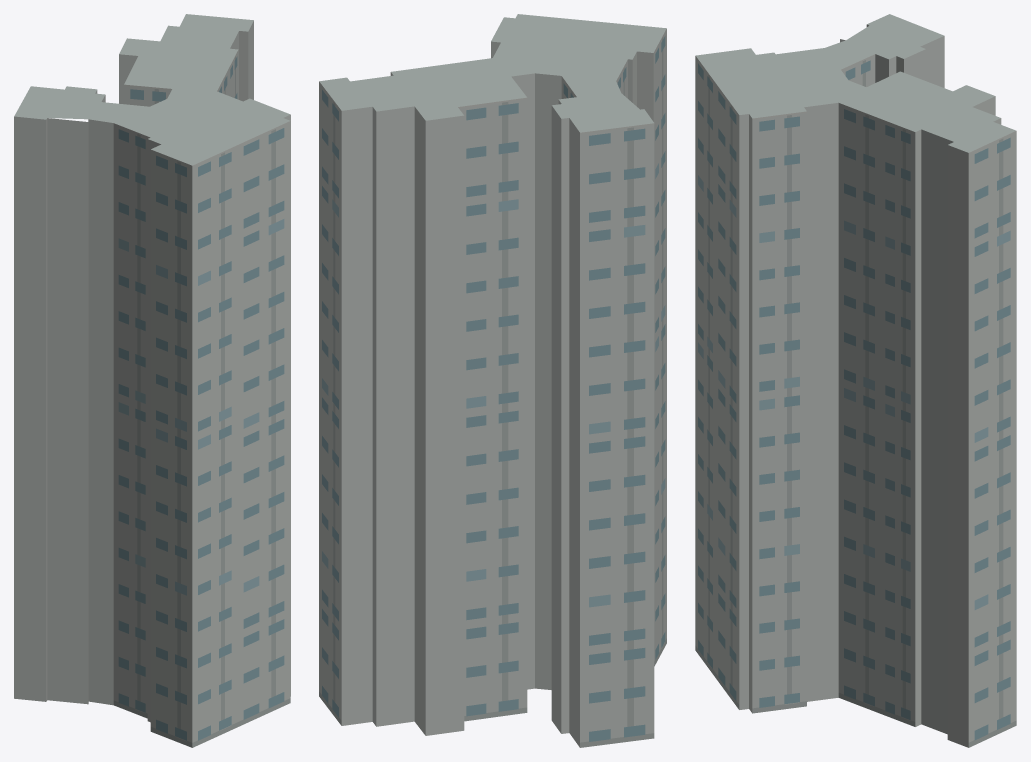
File: residential-1970c69f-f9e7-44c6-9b1d-e380e0ce7b0a.glb
3 views of the same model, side by side, from view 1: azimuth 30°, elevation 25°; view 2: azimuth 150°, elevation 25°; view 3: azimuth 270°, elevation 25° (orthographic). The views are drawn at different scales.
Parts seen in each view (by area): view 1: residential-1970c69f-f9e7-44c6-9b1d-e380e0ce7b0a.tmp; view 2: residential-1970c69f-f9e7-44c6-9b1d-e380e0ce7b0a.tmp; view 3: residential-1970c69f-f9e7-44c6-9b1d-e380e0ce7b0a.tmp.
Part boxes in pixels (bbox=[...]): residential-1970c69f-f9e7-44c6-9b1d-e380e0ce7b0a.tmp: bbox=[14, 14, 290, 747]; residential-1970c69f-f9e7-44c6-9b1d-e380e0ce7b0a.tmp: bbox=[319, 14, 666, 747]; residential-1970c69f-f9e7-44c6-9b1d-e380e0ce7b0a.tmp: bbox=[695, 14, 1016, 747].
Bounding box in the file's own units: 47.09 × 94 × 45.97.
